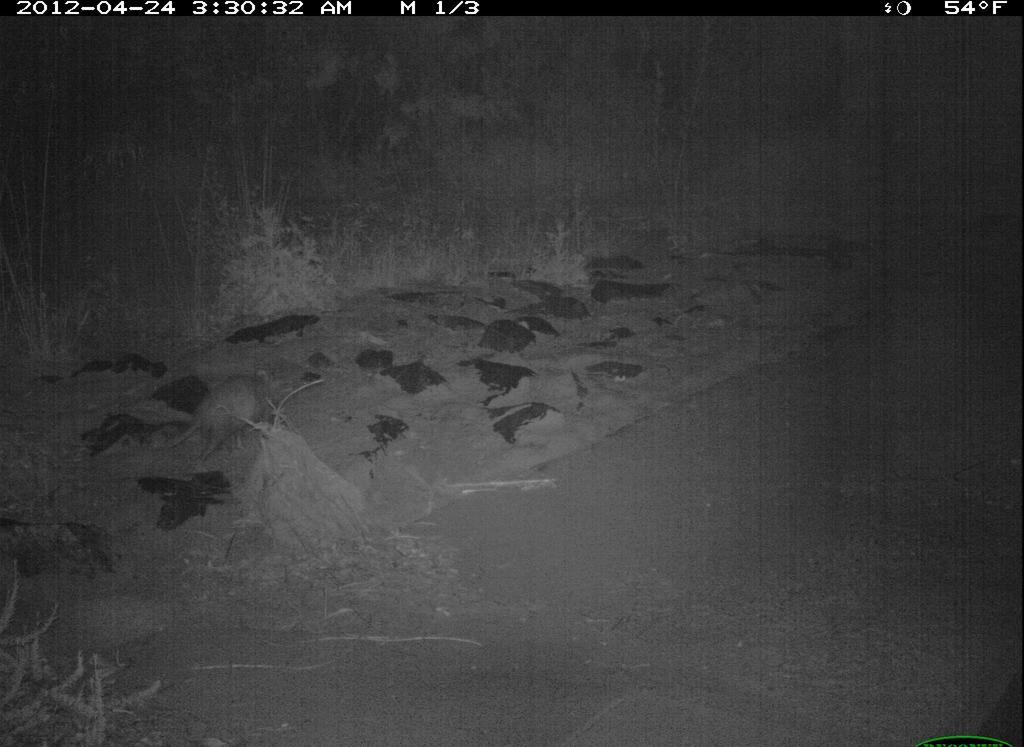opossum: (161, 370, 289, 465)
